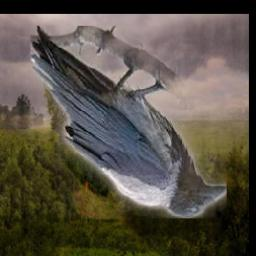Crow: (30, 26, 227, 218)
